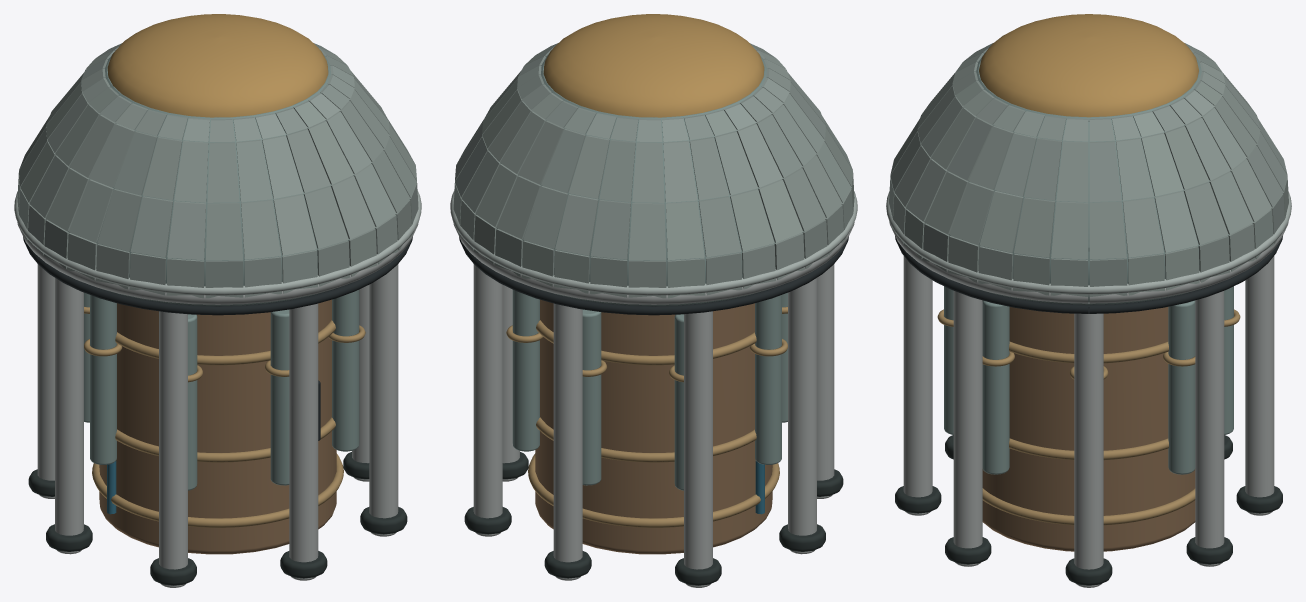
3 renders of one model, left to right at view 1: azimuth 30°, elevation 25°; view 2: azimuth 150°, elevation 25°; view 3: azimuth 270°, elevation 25°, orthographic.
Parts seen in each view (by area): view 1: Hydration segmented bell shell, Hydration lower bronze reservoir, Hydration gold top cap, Hydration external support column.006, Hydration external support column.005, Hydration external support column.007, Hydration external support column.004, Hydration suspended filter tube.004, Hydration suspended filter tube.007, Hydration external support column.003, Hydration head lower gasket, Hydration bell pressure flange (+13 smaller); view 2: Hydration segmented bell shell, Hydration lower bronze reservoir, Hydration gold top cap, Hydration external support column.002, Hydration external support column.003, Hydration external support column.001, Hydration external support column.004, Hydration suspended filter tube.004, Hydration suspended filter tube.001, Hydration external support column.005, Hydration head lower gasket, Hydration bell pressure flange (+13 smaller); view 3: Hydration segmented bell shell, Hydration lower bronze reservoir, Hydration gold top cap, Hydration external support column, Hydration external support column.001, Hydration external support column.007, Hydration external support column.002, Hydration external support column.006, Hydration suspended filter tube.001, Hydration suspended filter tube.007, Hydration head lower gasket, Hydration bell pressure flange (+12 smaller).
Boxes of the visible parts, bbox=[...] form: Hydration segmented bell shell: bbox=[17, 43, 418, 298]; Hydration lower bronze reservoir: bbox=[99, 299, 336, 554]; Hydration gold top cap: bbox=[107, 14, 328, 117]; Hydration external support column.006: bbox=[289, 303, 318, 580]; Hydration external support column.005: bbox=[159, 311, 187, 587]; Hydration external support column.007: bbox=[369, 264, 398, 536]; Hydration external support column.004: bbox=[55, 278, 83, 554]; Hydration suspended filter tube.004: bbox=[90, 295, 116, 464]; Hydration suspended filter tube.007: bbox=[332, 290, 359, 451]; Hydration external support column.003: bbox=[37, 264, 54, 498]; Hydration head lower gasket: bbox=[23, 237, 412, 315]; Hydration bell pressure flange: bbox=[14, 191, 421, 295]; Hydration segmented bell shell: bbox=[453, 43, 854, 298]; Hydration lower bronze reservoir: bbox=[535, 299, 772, 554]; Hydration gold top cap: bbox=[543, 14, 764, 117]; Hydration external support column.002: bbox=[553, 303, 582, 580]; Hydration external support column.003: bbox=[684, 311, 712, 587]; Hydration external support column.001: bbox=[473, 264, 502, 536]; Hydration external support column.004: bbox=[788, 278, 816, 554]; Hydration suspended filter tube.004: bbox=[755, 295, 781, 464]; Hydration suspended filter tube.001: bbox=[512, 290, 539, 451]; Hydration external support column.005: bbox=[817, 264, 834, 498]; Hydration head lower gasket: bbox=[459, 237, 848, 315]; Hydration bell pressure flange: bbox=[450, 191, 857, 295]; Hydration segmented bell shell: bbox=[889, 43, 1288, 296]; Hydration lower bronze reservoir: bbox=[982, 307, 1195, 551]; Hydration gold top cap: bbox=[979, 14, 1198, 117]; Hydration external support column: bbox=[1074, 313, 1103, 587]; Hydration external support column.001: bbox=[1195, 291, 1224, 566]; Hydration external support column.007: bbox=[953, 291, 982, 566]; Hydration external support column.002: bbox=[1245, 256, 1274, 515]; Hydration external support column.006: bbox=[903, 256, 932, 515]; Hydration suspended filter tube.001: bbox=[1168, 300, 1195, 474]; Hydration suspended filter tube.007: bbox=[982, 300, 1009, 474]; Hydration head lower gasket: bbox=[895, 236, 1282, 313]; Hydration bell pressure flange: bbox=[886, 191, 1291, 294].
Size of the model in its own units: 2.09 by 2.69 by 2.09.
